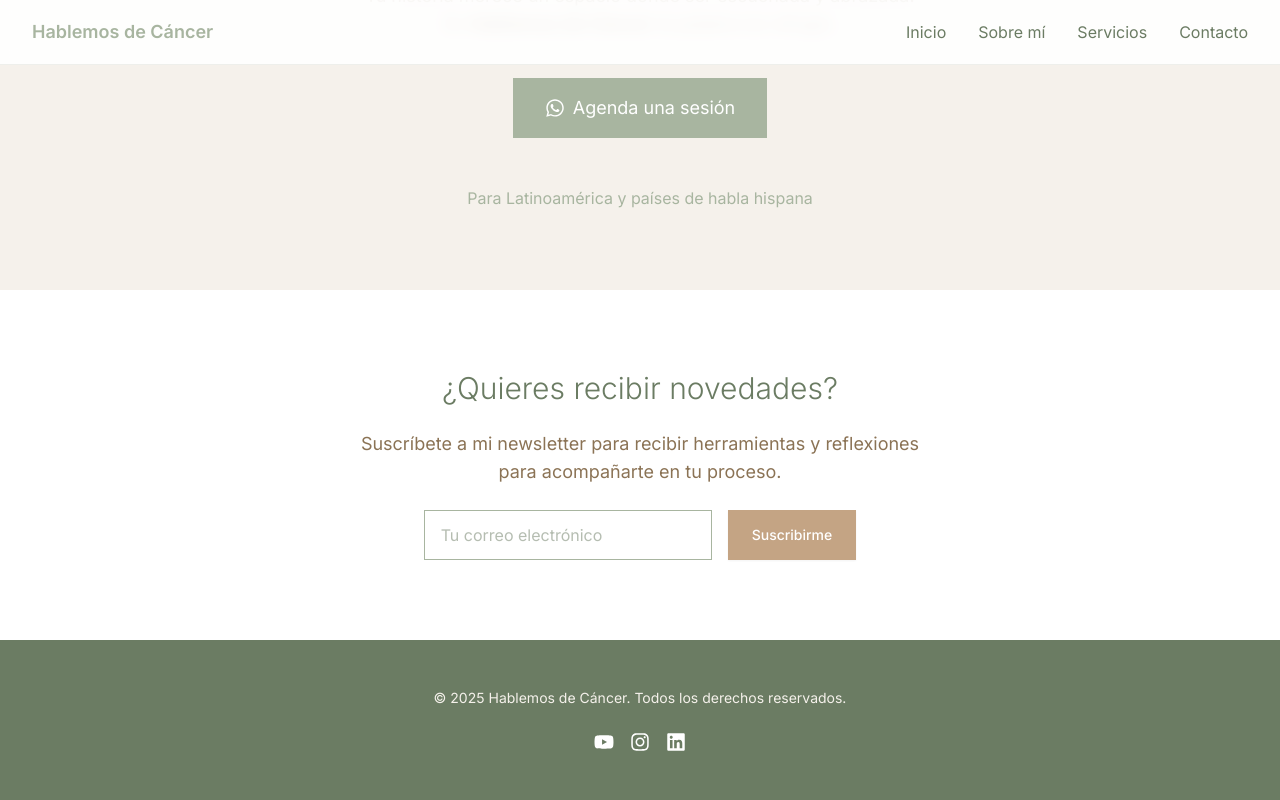
Test case: Home Page › should successfully subscribe to newsletter
(page scrolled)
Type "test@test.com" into the field with placeholder "Tu correo electrónico".
click(568, 535); type("test@test.com")  # box [424, 510, 712, 560]
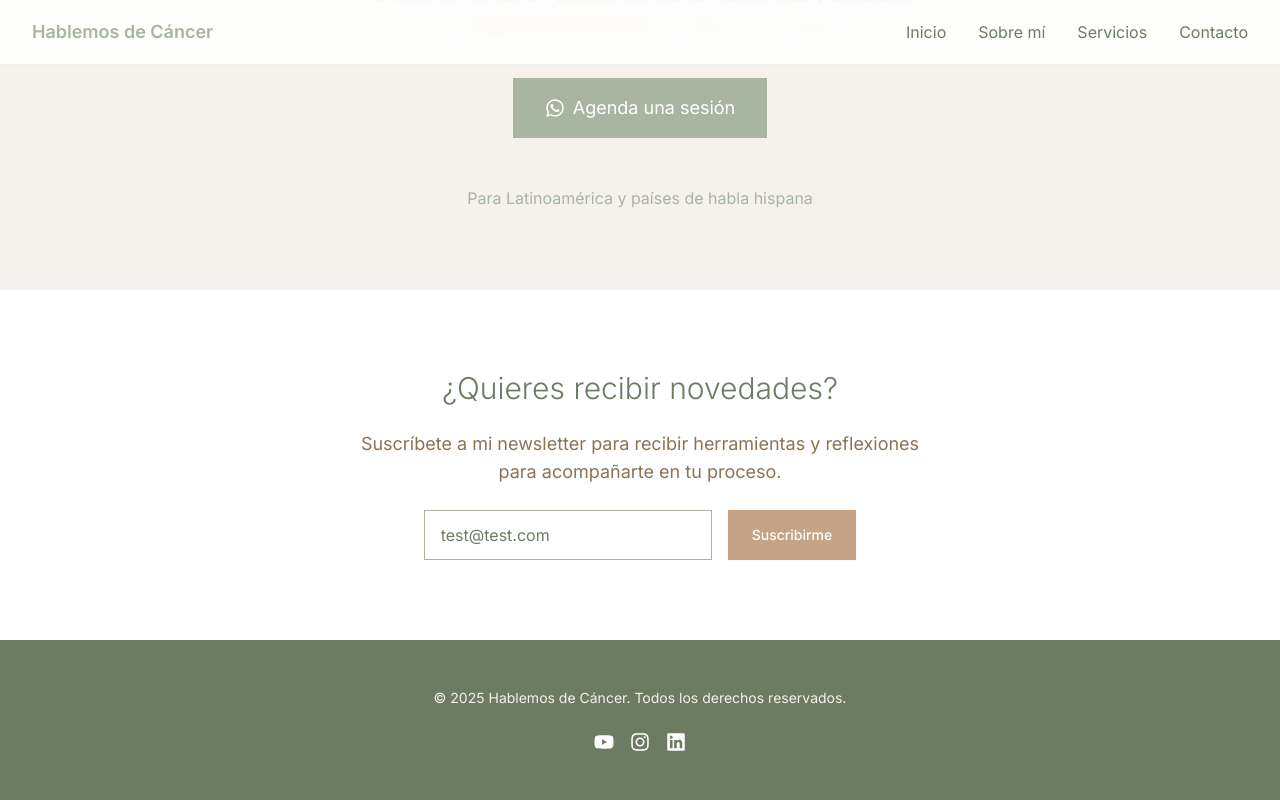
Click the button "Suscribirme".
click(792, 535)  # box [728, 510, 856, 560]
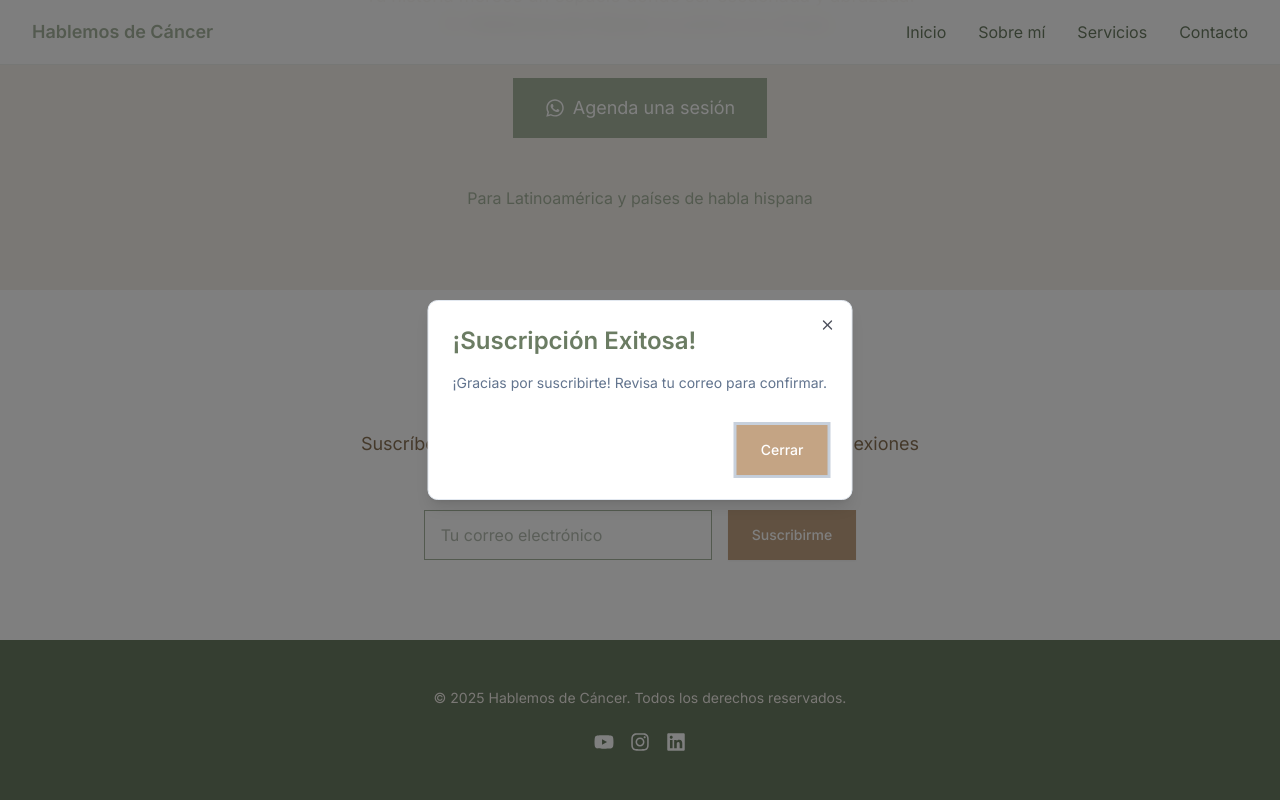
Expected: the text "¡Gracias por suscribirte! Revisa tu correo para confirmar." is shown, [452, 373, 828, 393]
